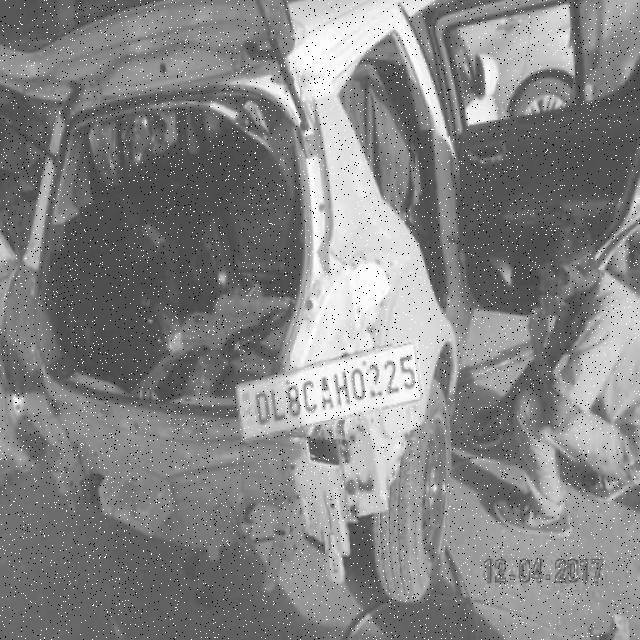car damage: (7, 256, 427, 588)
